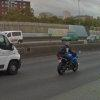Motorcycle: (49, 41, 81, 79)
